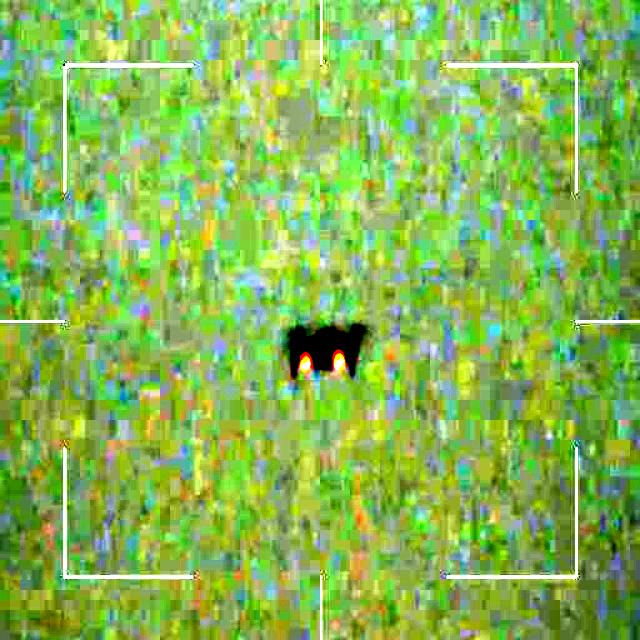bird: (282, 322, 371, 375)
